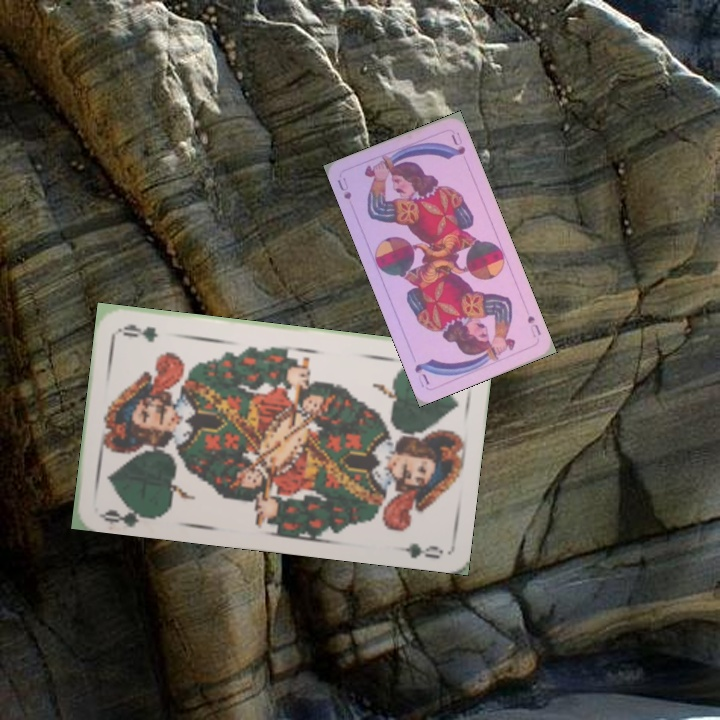GO: (97, 499, 156, 528)
SU: (333, 173, 354, 202), (523, 311, 544, 340)
